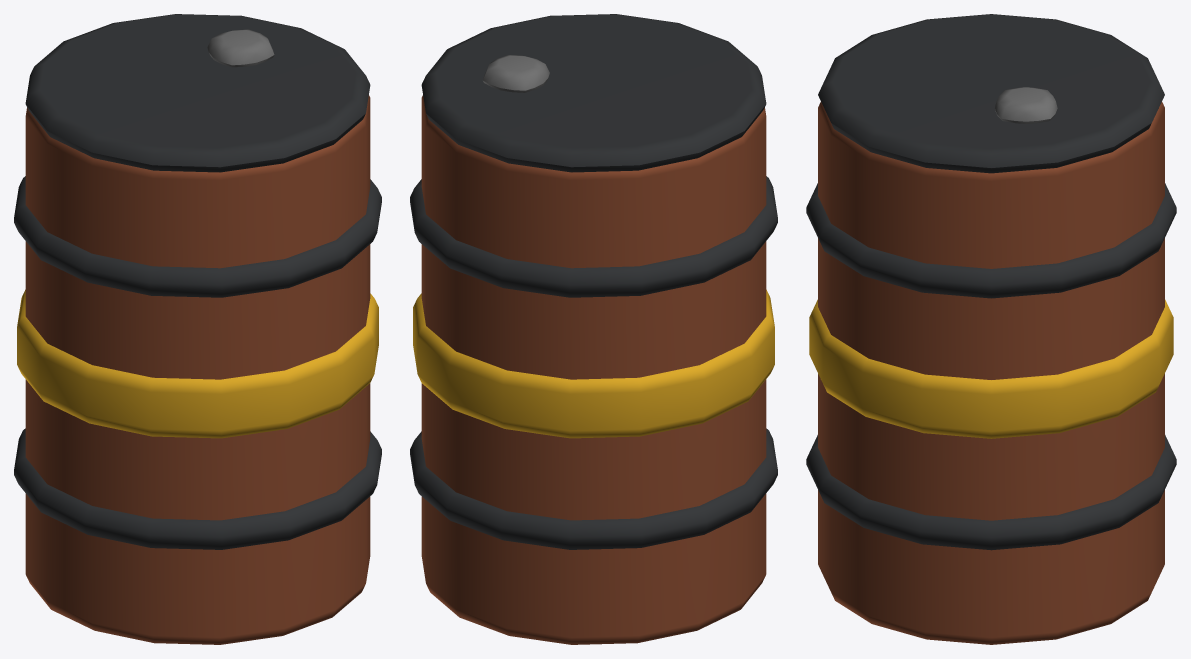
The model's file is yard-drum.glb.
The picture shows the model from 3 angles, left to right: view 1: azimuth 30°, elevation 25°; view 2: azimuth 150°, elevation 25°; view 3: azimuth 270°, elevation 25°; orthographic projection.
Visible parts, largest first — view 1: yard-drum; view 2: yard-drum; view 3: yard-drum.
Boxes of the visible parts, x1,y1,x2,y2 form: yard-drum: (14,14,381,644); yard-drum: (410,14,777,644); yard-drum: (806,14,1176,644).
Bounding box in the file's own units: 0.64 × 0.975 × 0.64.
